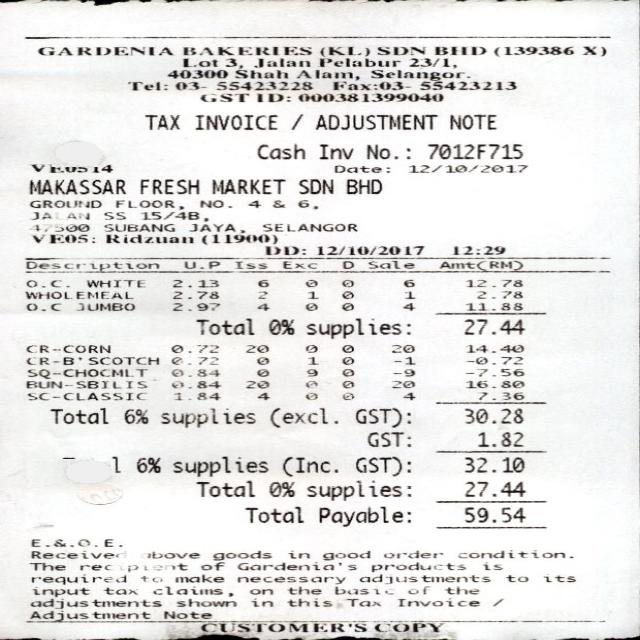text: (268, 406, 402, 427), (304, 479, 409, 500), (170, 455, 266, 476), (314, 113, 436, 129), (159, 407, 254, 427), (316, 506, 409, 526), (304, 319, 411, 336), (200, 622, 366, 632), (426, 142, 522, 159), (29, 609, 149, 622), (27, 178, 124, 194), (296, 92, 442, 102), (29, 598, 160, 608), (359, 574, 488, 584), (193, 114, 276, 129), (36, 46, 171, 55), (209, 178, 284, 194), (26, 368, 145, 378), (26, 356, 157, 365), (280, 455, 336, 476), (354, 455, 409, 476), (369, 69, 468, 80), (193, 317, 253, 335), (193, 479, 253, 497), (78, 561, 186, 571), (26, 379, 145, 388), (316, 244, 422, 254), (368, 561, 464, 572), (244, 505, 302, 523), (455, 549, 571, 558), (26, 391, 141, 400), (182, 46, 310, 54), (437, 260, 521, 272), (48, 407, 106, 424), (197, 232, 278, 244), (24, 290, 131, 299), (419, 80, 515, 90), (464, 318, 524, 334), (464, 506, 524, 522), (235, 562, 354, 570), (30, 548, 125, 558), (138, 178, 197, 194), (31, 574, 124, 584), (409, 164, 525, 172), (464, 456, 522, 472), (464, 481, 524, 496), (464, 408, 522, 423), (214, 81, 310, 90), (235, 576, 343, 584), (372, 621, 442, 633), (318, 57, 398, 67), (151, 586, 231, 596), (256, 142, 303, 159), (331, 80, 409, 90), (107, 232, 185, 242), (295, 68, 358, 80), (261, 223, 355, 231), (26, 344, 108, 353), (140, 210, 207, 221), (492, 46, 572, 55), (449, 113, 494, 129), (31, 538, 120, 546), (31, 163, 110, 172), (365, 143, 409, 159), (112, 199, 182, 209), (395, 598, 478, 606), (28, 199, 100, 208), (477, 432, 521, 446), (365, 432, 409, 446), (32, 232, 93, 242), (101, 223, 174, 231), (189, 222, 242, 233), (212, 550, 270, 560), (296, 178, 332, 194), (344, 178, 380, 194), (31, 586, 88, 596), (253, 57, 309, 67), (165, 69, 226, 78), (332, 585, 392, 594), (171, 288, 220, 299), (407, 57, 455, 68), (464, 301, 522, 310), (319, 143, 351, 159), (144, 114, 178, 129), (453, 244, 504, 254), (467, 343, 522, 352), (319, 46, 368, 56), (198, 92, 247, 102), (232, 69, 286, 78), (365, 259, 413, 269), (390, 344, 414, 364), (321, 550, 369, 560), (174, 598, 234, 606), (382, 550, 441, 558), (76, 302, 134, 310), (464, 368, 522, 376), (464, 380, 522, 388), (168, 344, 217, 353), (173, 573, 222, 582), (465, 279, 520, 287), (466, 356, 521, 364), (334, 164, 388, 172), (86, 279, 140, 287), (267, 318, 292, 335), (35, 223, 88, 231), (145, 550, 198, 558), (476, 391, 522, 400), (263, 245, 304, 255), (433, 46, 484, 54), (168, 356, 217, 364), (161, 610, 210, 618), (268, 481, 294, 496), (375, 46, 423, 54), (170, 368, 218, 376), (171, 380, 219, 388), (135, 456, 159, 472), (232, 257, 266, 268), (171, 279, 217, 287), (475, 290, 521, 298), (172, 302, 218, 310), (123, 408, 146, 424), (284, 598, 330, 606), (126, 81, 166, 90), (280, 260, 316, 270), (182, 57, 216, 67), (255, 92, 289, 102), (26, 279, 68, 287), (171, 392, 219, 399), (285, 585, 320, 594), (172, 81, 205, 90), (29, 562, 64, 570), (184, 260, 218, 268), (197, 199, 230, 207), (26, 302, 59, 310), (444, 586, 477, 594), (103, 586, 136, 594), (346, 598, 379, 606), (304, 344, 317, 364), (543, 574, 575, 582), (582, 45, 604, 56), (242, 379, 268, 388), (341, 344, 352, 364), (199, 561, 223, 570), (296, 199, 316, 209), (223, 57, 240, 68), (407, 585, 427, 594), (290, 113, 301, 129), (102, 211, 124, 219), (245, 344, 267, 352), (391, 368, 413, 376), (391, 380, 413, 388), (250, 598, 271, 606), (246, 588, 272, 594), (504, 574, 526, 581), (30, 211, 49, 219), (67, 212, 88, 219), (139, 575, 160, 582), (287, 552, 308, 558), (480, 563, 501, 569), (255, 391, 268, 400), (400, 391, 413, 400), (269, 199, 283, 207), (402, 289, 413, 299), (303, 279, 316, 287), (341, 290, 354, 298), (254, 290, 267, 298), (303, 302, 316, 310), (112, 455, 118, 472), (303, 380, 316, 387), (303, 392, 316, 399), (340, 260, 351, 268), (256, 279, 267, 287), (402, 279, 413, 287), (341, 279, 352, 287), (306, 290, 317, 298), (341, 302, 352, 310), (402, 302, 413, 310), (256, 302, 267, 310), (256, 356, 267, 364), (305, 368, 316, 376), (256, 368, 267, 376), (341, 368, 352, 376), (341, 380, 352, 388), (248, 200, 259, 207), (341, 392, 352, 399), (491, 598, 501, 605)
